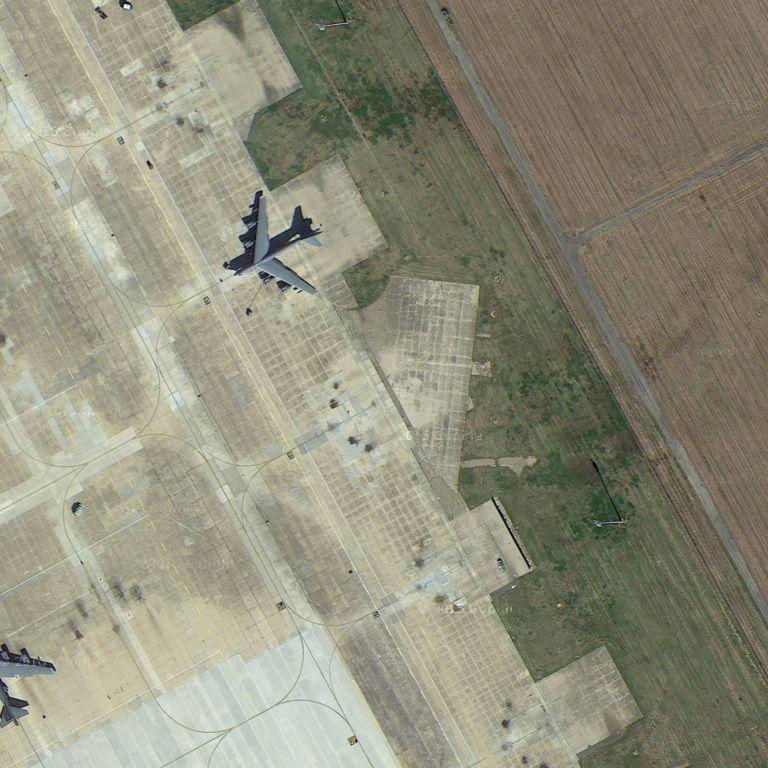B-52: (233, 192, 332, 297)
